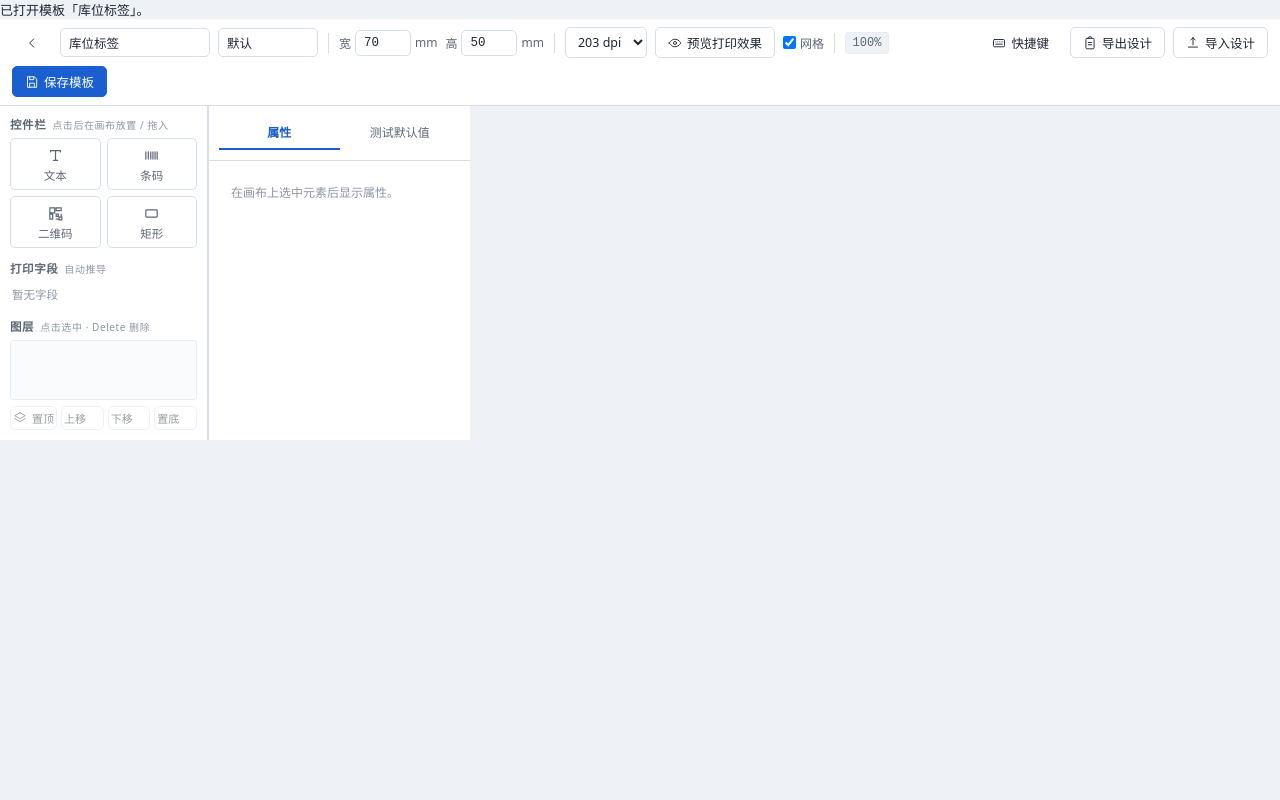
Test case: 未保存离开保护三选（迭代 92 F-02，决议 a：dirty = 历史栈有已提交更改） › AC-01「继续编辑」：dirty 后点返回弹三选，选择后留在设计器（不保存不离开）
expect the field showing "库位标签" is shown: met, box [60, 28, 210, 57]
Replace the text in the number field showing "70" with "80" at (383, 42), box [355, 30, 411, 56]
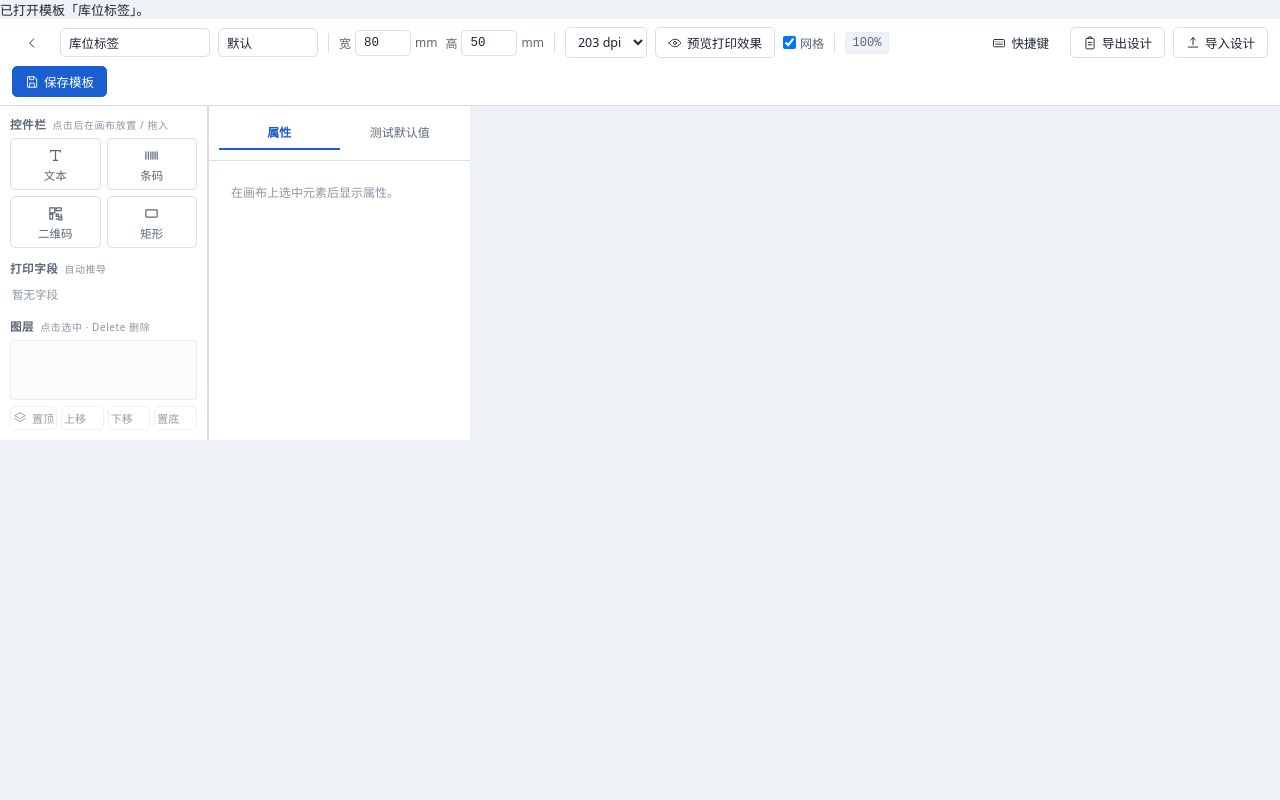
Click the button titled "返回工作台" at (32, 42), box [12, 30, 52, 56]
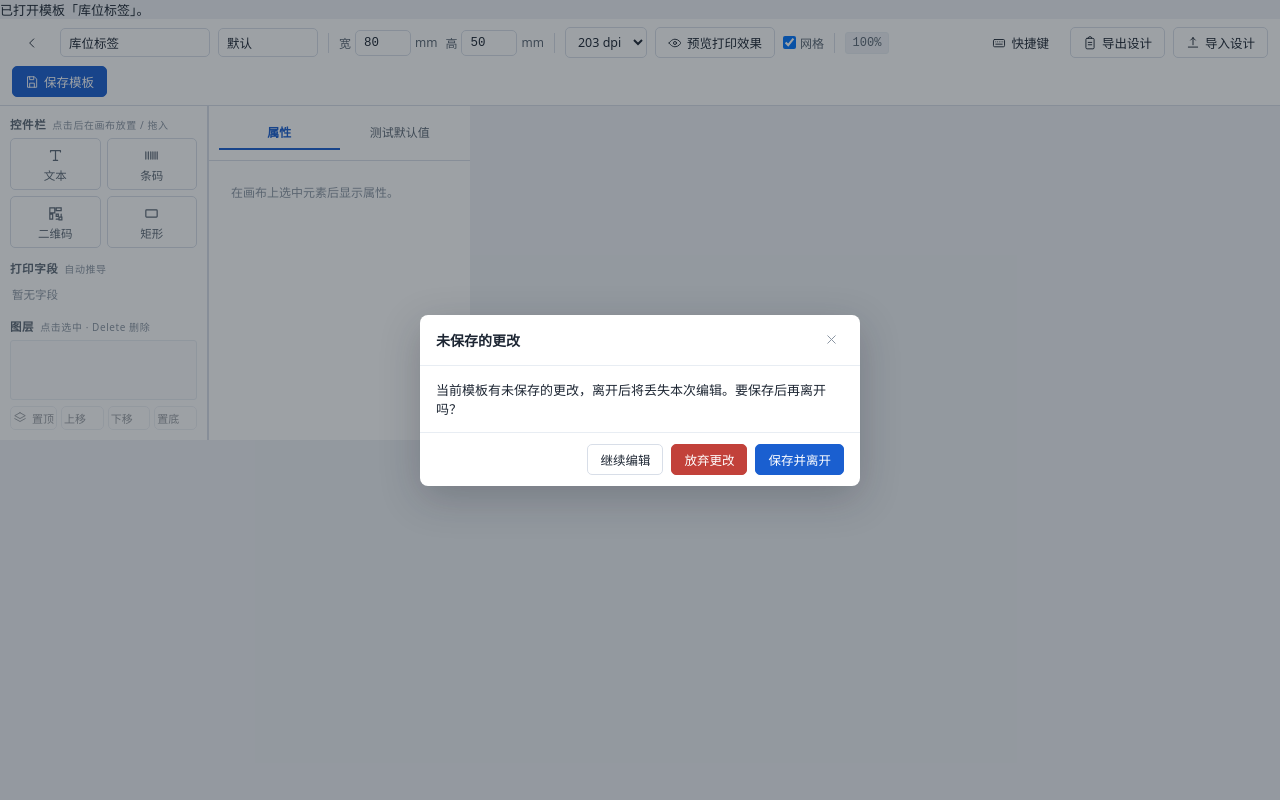
expect the text "未保存的更改" is shown: met, box [436, 330, 520, 350]
Click the button "继续编辑" at (626, 459), box [588, 444, 664, 474]
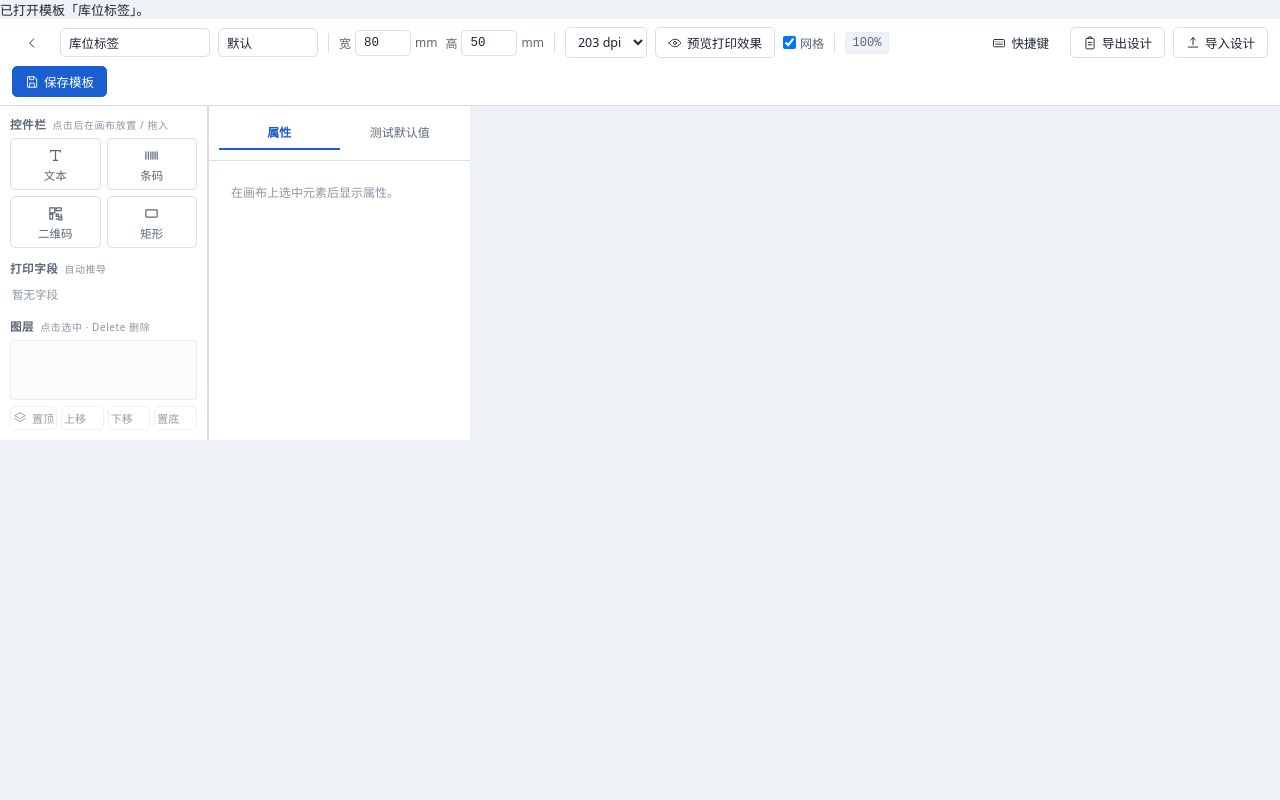
expect the text "未保存的更改" is gone: met
